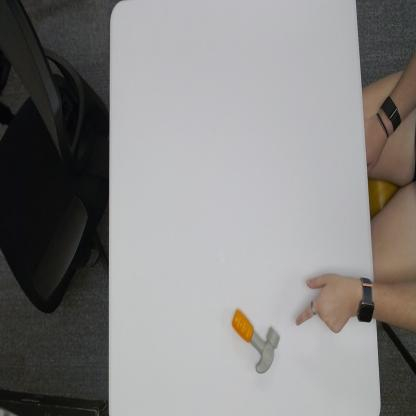Hammer: (231, 307, 280, 375)
Hand: (295, 273, 357, 337)
